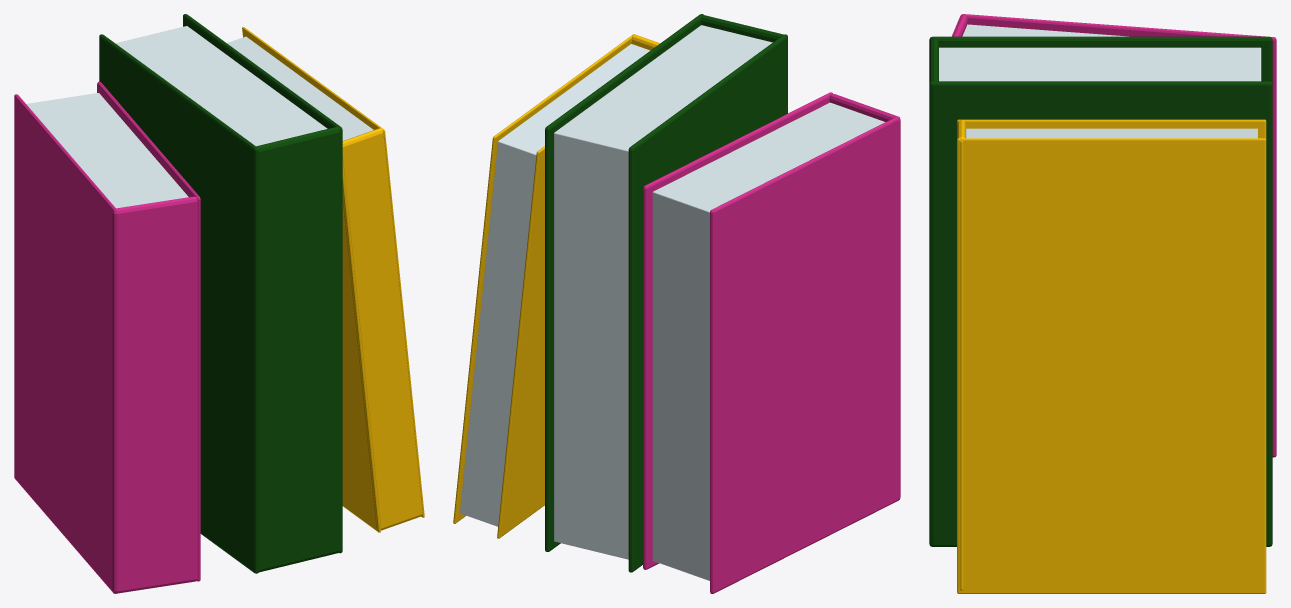
The model's file is Books_Alive.fbx.
3 renders of one model, left to right at view 1: azimuth 30°, elevation 25°; view 2: azimuth 150°, elevation 25°; view 3: azimuth 270°, elevation 25°, orthographic. The views are drawn at different scales.
Visible parts, largest first — view 1: Book1_Cover_Back, Book2_Spine, Book1_Spine, Book2_Cover_Back, Book3_Spine, Book2_Pages, Book1_Pages, Book3_Cover_Back, Book2_Cover_Front, Book1_Cover_Front, Book3_Pages, Book3_Cover_Front; view 2: Book1_Cover_Back, Book2_Pages, Book1_Pages, Book3_Pages, Book2_Cover_Back, Book3_Cover_Back, Book1_Cover_Front, Book2_Cover_Front, Book3_Cover_Front, Book1_Spine, Book2_Spine; view 3: Book3_Cover_Front, Book2_Cover_Front, Book2_Pages, Book1_Cover_Back, Book2_Cover_Back, Book3_Pages, Book3_Cover_Back, Book3_Spine, Book2_Spine, Book1_Pages.
Boxes of the visible parts, <box> form: Book1_Cover_Back: <box>14,94,116,593</box>; Book2_Spine: <box>256,126,340,572</box>; Book1_Spine: <box>112,196,197,593</box>; Book2_Cover_Back: <box>99,34,258,573</box>; Book3_Spine: <box>342,128,422,530</box>; Book2_Pages: <box>115,26,327,146</box>; Book1_Pages: <box>26,93,188,208</box>; Book3_Cover_Back: <box>342,162,380,532</box>; Book2_Cover_Front: <box>183,14,342,553</box>; Book1_Cover_Front: <box>97,82,200,581</box>; Book3_Pages: <box>227,36,373,140</box>; Book3_Cover_Front: <box>242,27,424,517</box>; Book1_Cover_Back: <box>710,116,900,593</box>; Book2_Pages: <box>554,25,772,559</box>; Book1_Pages: <box>652,102,885,580</box>; Book3_Pages: <box>460,44,650,526</box>; Book2_Cover_Back: <box>628,34,787,572</box>; Book3_Cover_Back: <box>497,146,544,538</box>; Book1_Cover_Front: <box>643,92,832,569</box>; Book2_Cover_Front: <box>545,14,703,551</box>; Book3_Cover_Front: <box>453,34,634,523</box>; Book1_Spine: <box>829,94,900,498</box>; Book2_Spine: <box>701,15,783,42</box>; Book3_Cover_Front: <box>957,138,1266,593</box>; Book2_Cover_Front: <box>929,81,1272,546</box>; Book2_Pages: <box>939,47,1261,81</box>; Book1_Cover_Back: <box>961,14,1276,457</box>; Book2_Cover_Back: <box>929,36,1272,83</box>; Book3_Pages: <box>966,128,1257,138</box>; Book3_Cover_Back: <box>957,119,1266,139</box>; Book3_Spine: <box>957,120,965,590</box>; Book2_Spine: <box>929,38,938,544</box>; Book1_Pages: <box>962,24,1128,36</box>.
Size of the model in its own units: 21.92 by 28.84 by 19.48.
